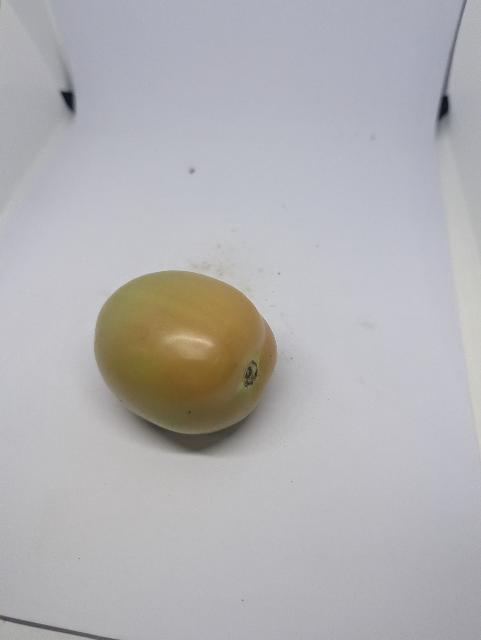breaker: (94, 271, 277, 434)
